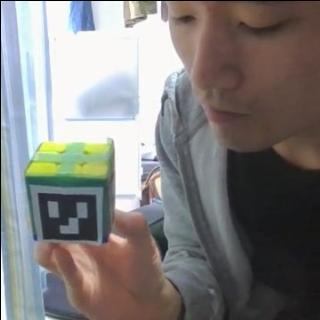armor: (29, 182, 103, 244)
robot: (26, 140, 114, 246)
